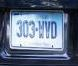0: (23, 19, 28, 38)
3: (16, 19, 23, 38), (29, 20, 36, 39)
D: (51, 20, 58, 40)
V: (45, 20, 51, 39)
W: (38, 19, 45, 39)
